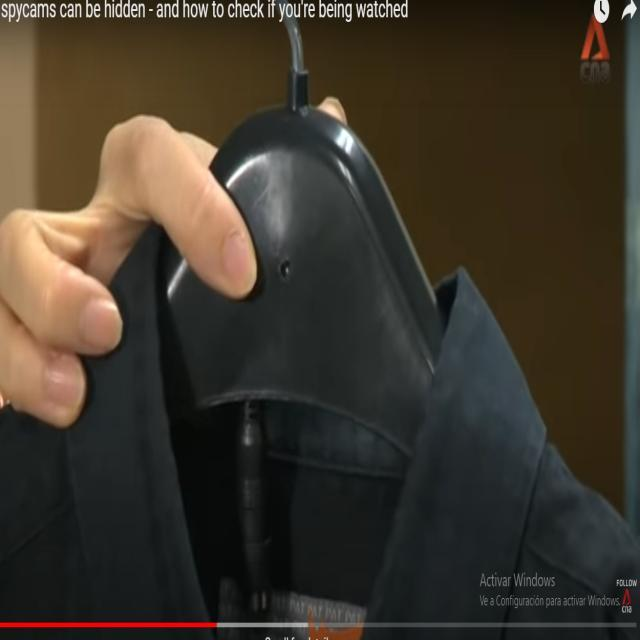hidden camera: (277, 257, 290, 281)
